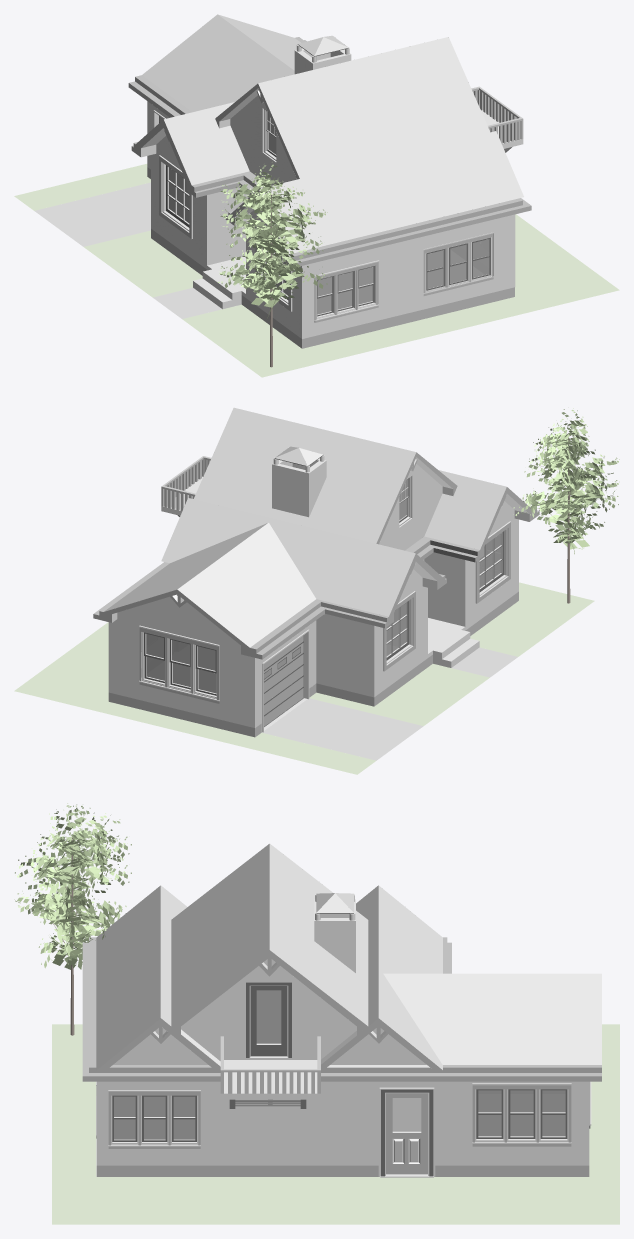
File: sp-prop-sf-1L-41ft.glb
3 renders of one model, top to bottom at view 1: azimuth 30°, elevation 25°; view 2: azimuth 150°, elevation 25°; view 3: azimuth 270°, elevation 25°, orthographic. The views are drawn at different scales.
Parts seen in each view (by area): view 1: 3DGeom-5, 3DGeom-3, 3DGeom-2, 3DGeom-1, 3DGeom-7, 3DGeom-625, 3DGeom-11, 3DGeom-6; view 2: 3DGeom-1, 3DGeom-3, 3DGeom-2, 3DGeom-7, 3DGeom-625, 3DGeom-11, 3DGeom-6, 3DGeom-5; view 3: 3DGeom-3, 3DGeom-2, 3DGeom-1, 3DGeom-5, 3DGeom-7, 3DGeom-625, 3DGeom-11, 3DGeom-6.
Part boxes in pixels (x1=…): 3DGeom-5: x1=164, y1=37, x2=523, y2=253; 3DGeom-3: x1=141, y1=36, x2=523, y2=338; 3DGeom-2: x1=14, y1=164, x2=619, y2=377; 3DGeom-1: x1=34, y1=14, x2=347, y2=318; 3DGeom-7: x1=128, y1=37, x2=531, y2=348; 3DGeom-625: x1=216, y1=162, x2=327, y2=318; 3DGeom-11: x1=169, y1=112, x2=489, y2=314; 3DGeom-6: x1=159, y1=44, x2=511, y2=322; 3DGeom-1: x1=104, y1=407, x2=517, y2=760; 3DGeom-3: x1=108, y1=447, x2=529, y2=732; 3DGeom-2: x1=14, y1=582, x2=594, y2=774; 3DGeom-7: x1=93, y1=452, x2=539, y2=737; 3DGeom-625: x1=513, y1=408, x2=619, y2=554; 3DGeom-11: x1=141, y1=479, x2=500, y2=693; 3DGeom-6: x1=141, y1=455, x2=503, y2=726; 3DGeom-5: x1=161, y1=448, x2=307, y2=510; 3DGeom-3: x1=96, y1=894, x2=591, y2=1177; 3DGeom-2: x1=52, y1=1024, x2=619, y2=1224; 3DGeom-1: x1=160, y1=844, x2=601, y2=1069; 3DGeom-5: x1=96, y1=844, x2=417, y2=1161; 3DGeom-7: x1=82, y1=937, x2=601, y2=1176; 3DGeom-625: x1=14, y1=803, x2=131, y2=969; 3DGeom-11: x1=114, y1=990, x2=565, y2=1139; 3DGeom-6: x1=96, y1=913, x2=590, y2=1176.
Bounding box in the file's own units: 11.1 × 5.64 × 13.19.
